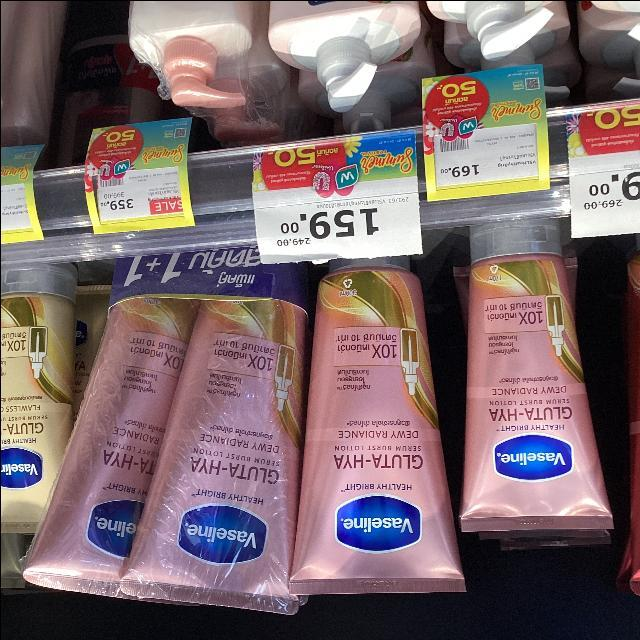Squeeze Tube: (34, 229, 636, 640), (18, 294, 303, 609), (276, 244, 467, 591), (459, 221, 626, 529)
